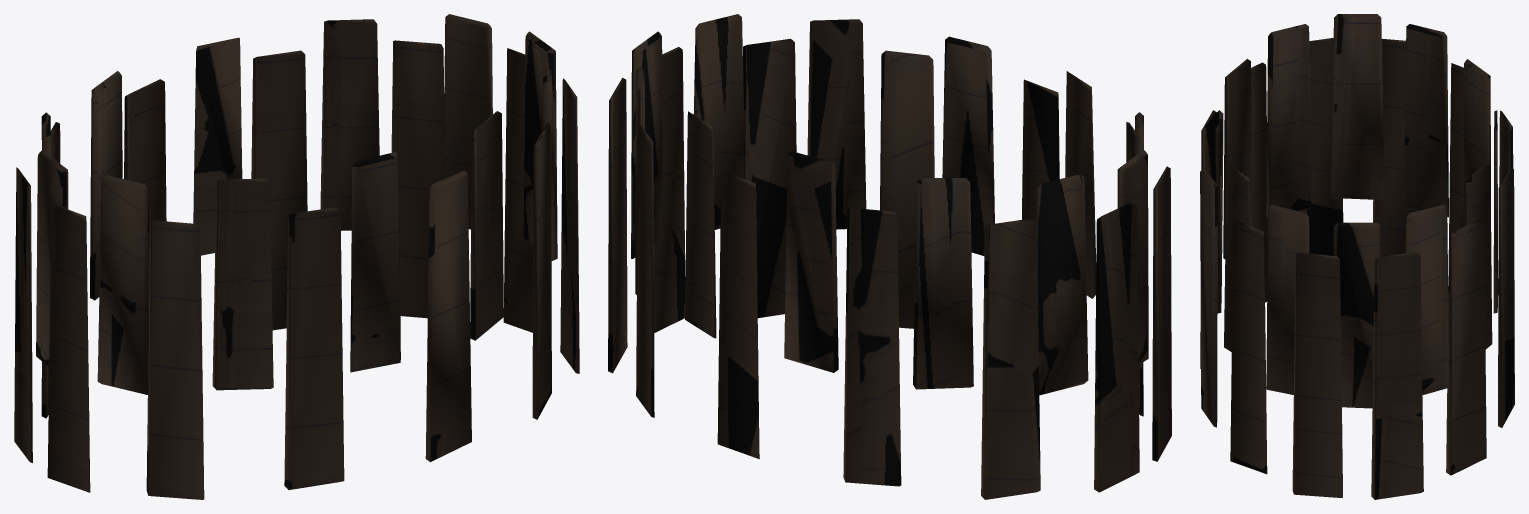
Rendered from Atalanta_Cintura_Cuero.fbx.
The picture shows the model from 3 angles, left to right: view 1: azimuth 30°, elevation 25°; view 2: azimuth 150°, elevation 25°; view 3: azimuth 270°, elevation 25°; orthographic projection. The views are drawn at different scales.
Visible parts, largest first — view 1: Atalanta_Cintura_Cuero; view 2: Atalanta_Cintura_Cuero; view 3: Atalanta_Cintura_Cuero.
Boxes of the visible parts, left/top/right/bottom form: Atalanta_Cintura_Cuero: left=14, top=14, right=579, bottom=499; Atalanta_Cintura_Cuero: left=608, top=14, right=1171, bottom=499; Atalanta_Cintura_Cuero: left=1200, top=14, right=1514, bottom=499.
Size of the model in its own units: 2.38 by 1.36 by 1.43.
